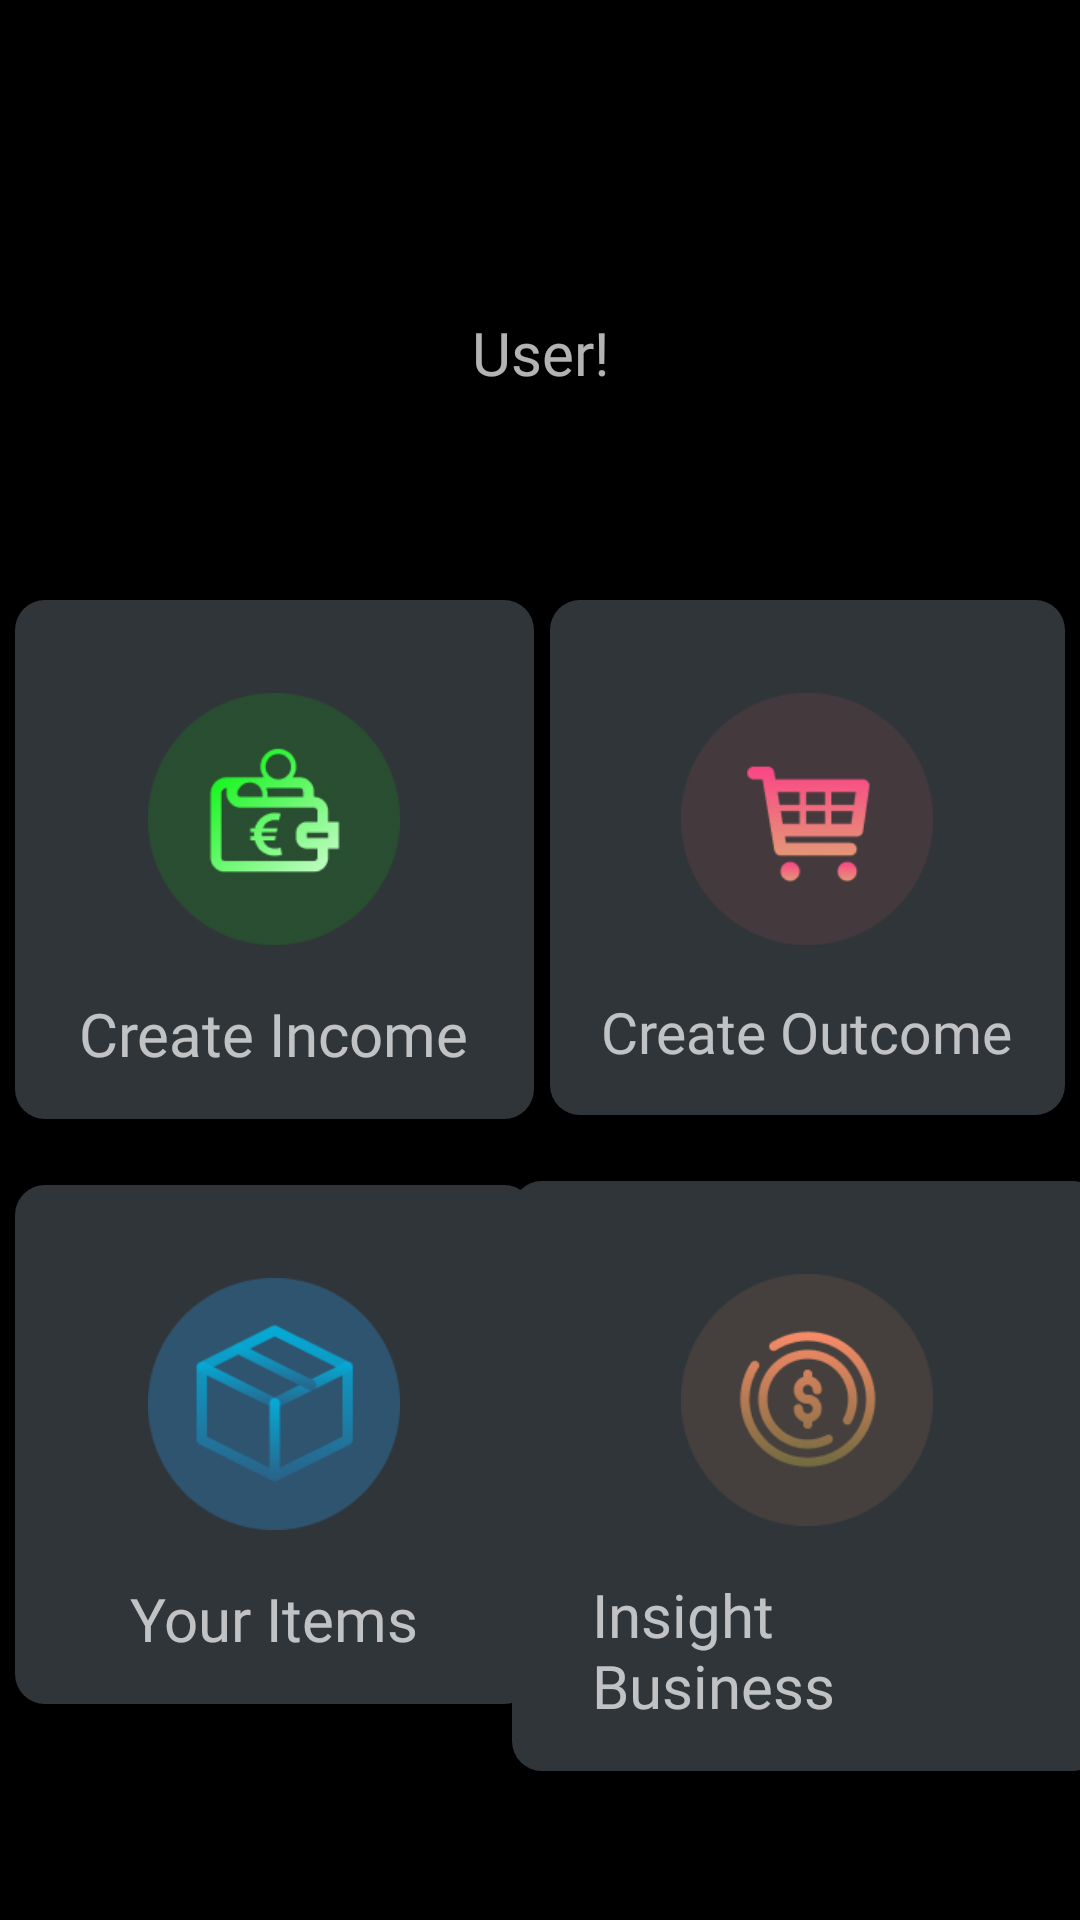

Screen size 1080*1920. Icon name, then its box in pixels as (x1, y1, x2, y2):
merch: (148, 1278, 400, 1530)
